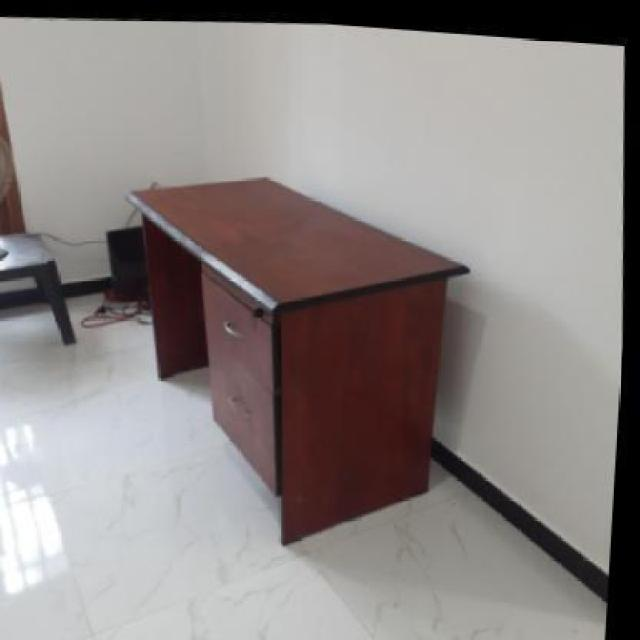tables: (125, 173, 469, 544)
